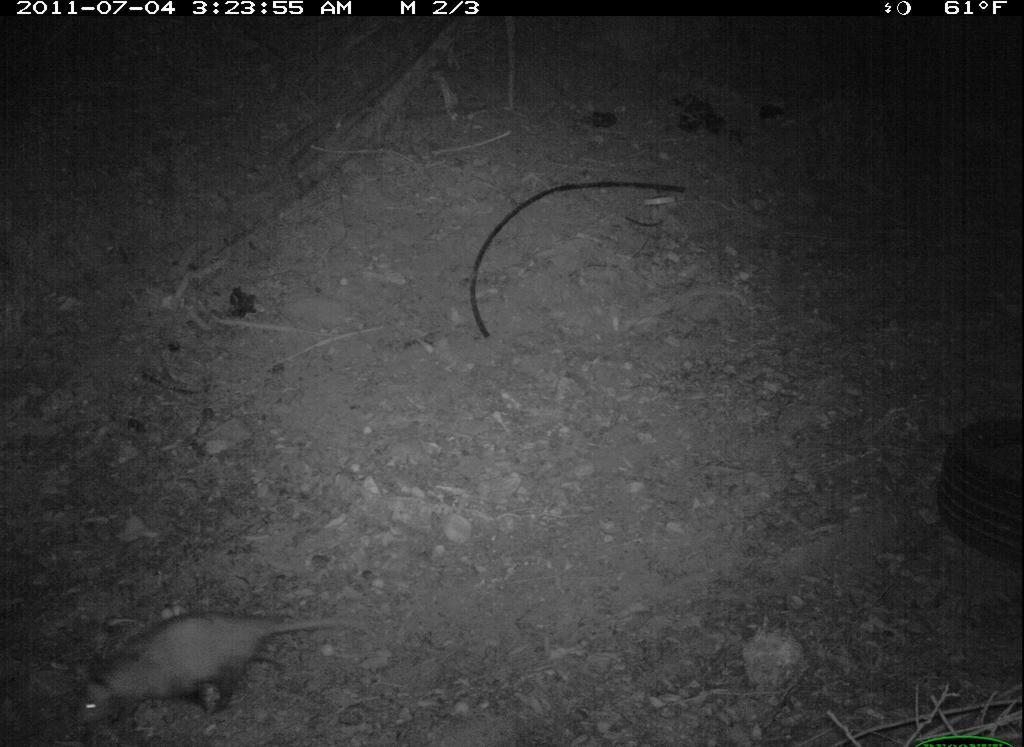opossum: (70, 606, 383, 738)
